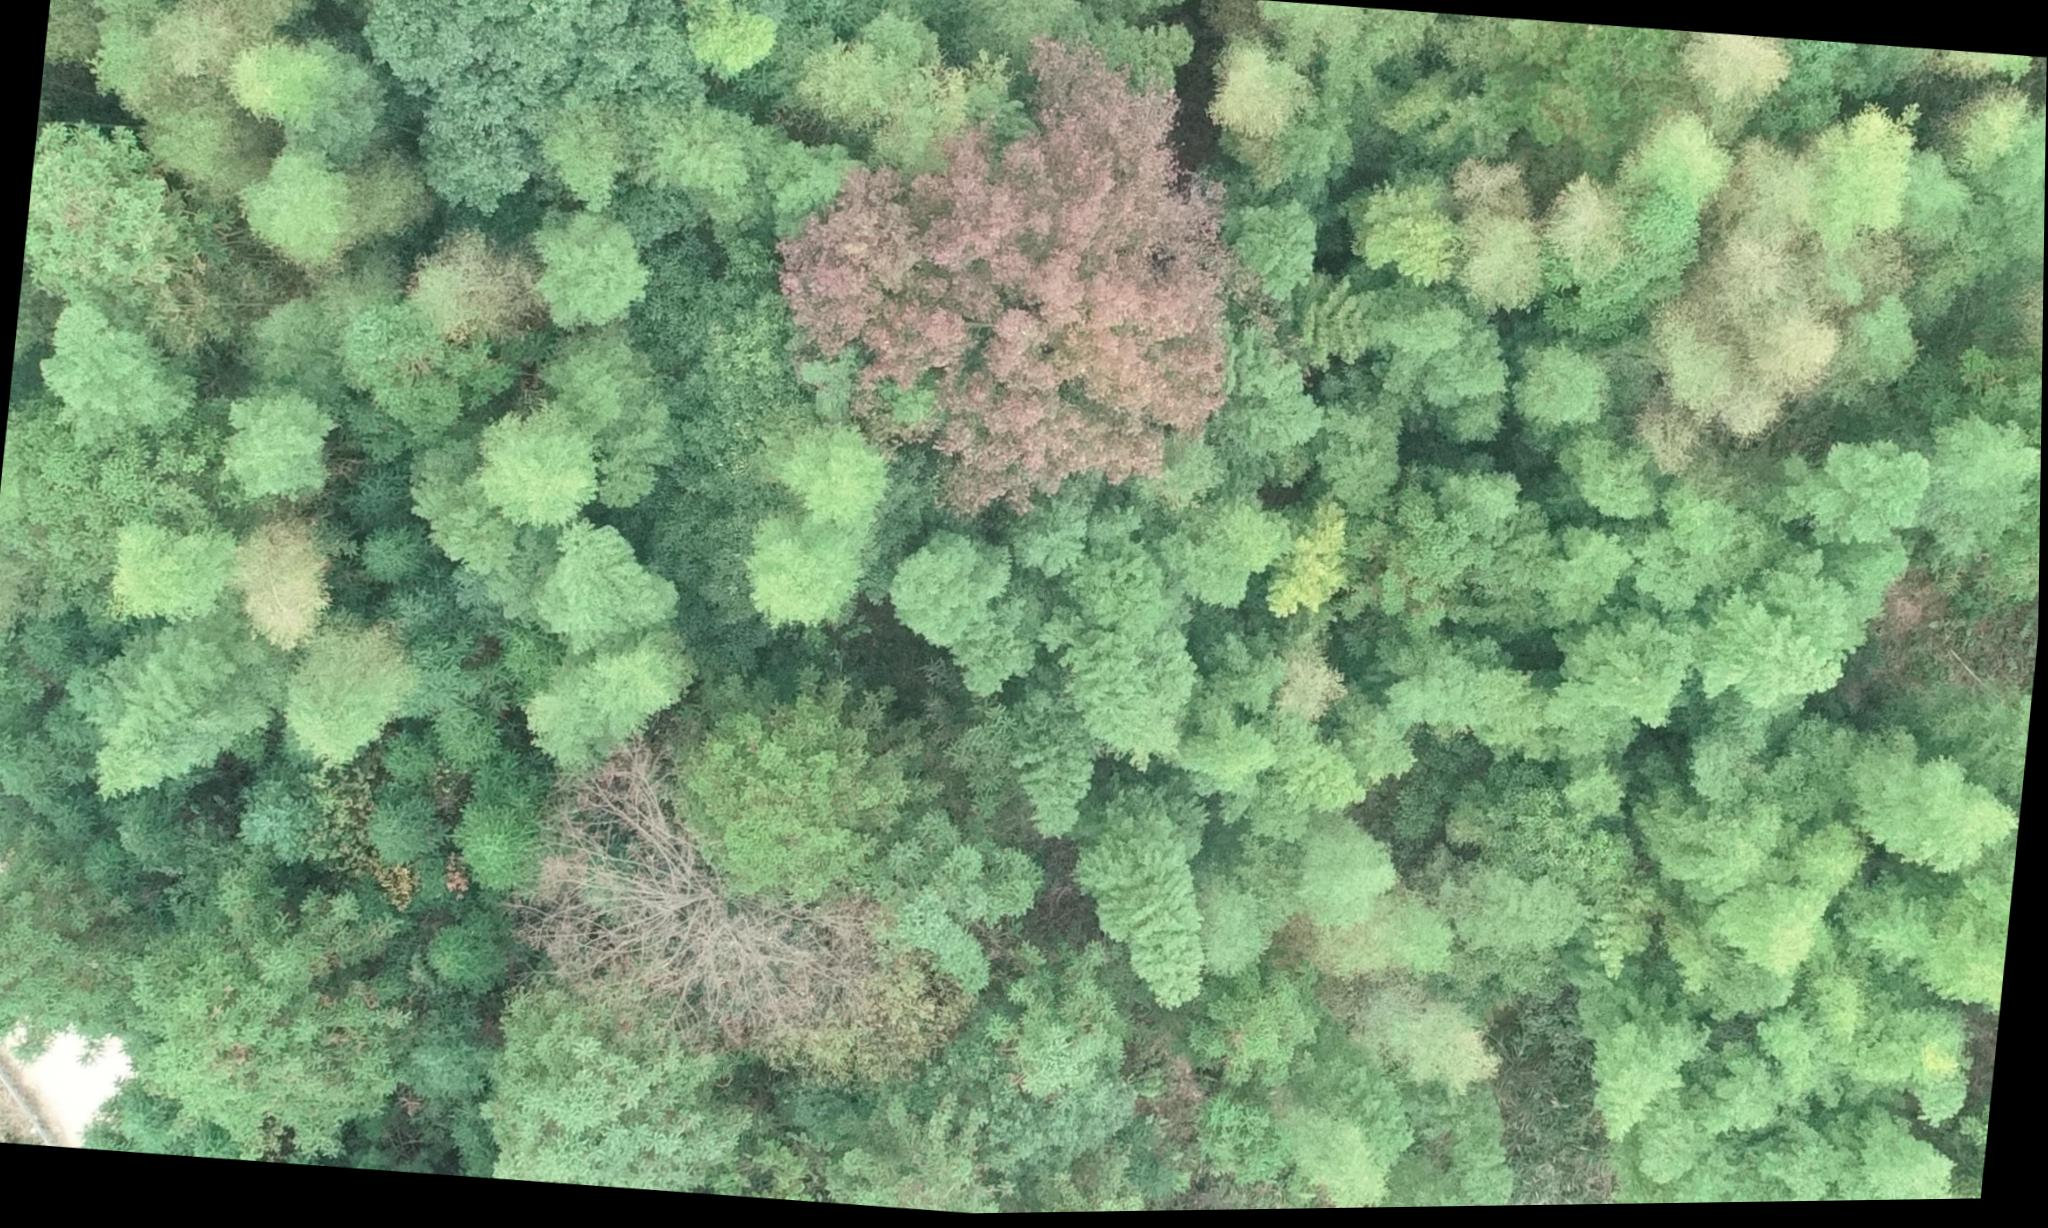dead: (507, 738, 922, 1079)
heavy: (741, 19, 1266, 538)
